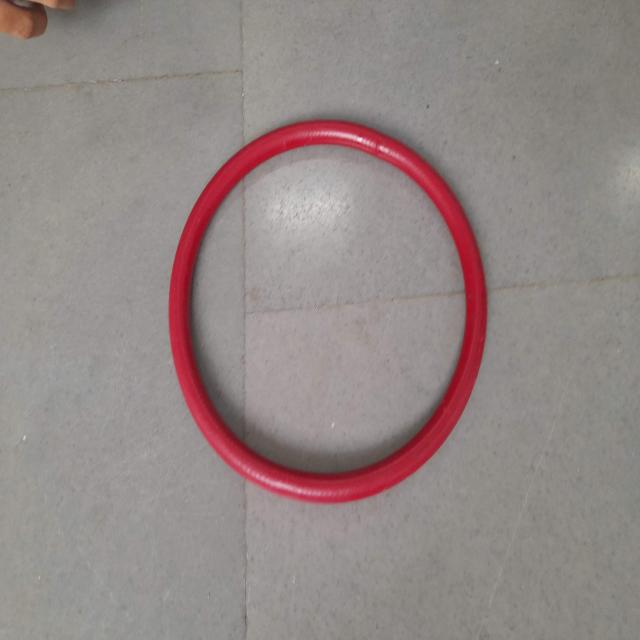daire: (173, 115, 489, 504)
